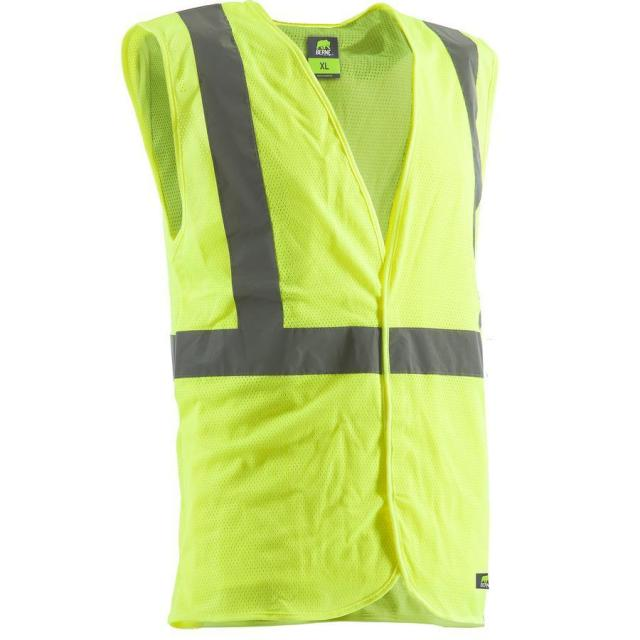Vest: (117, 1, 501, 628)
